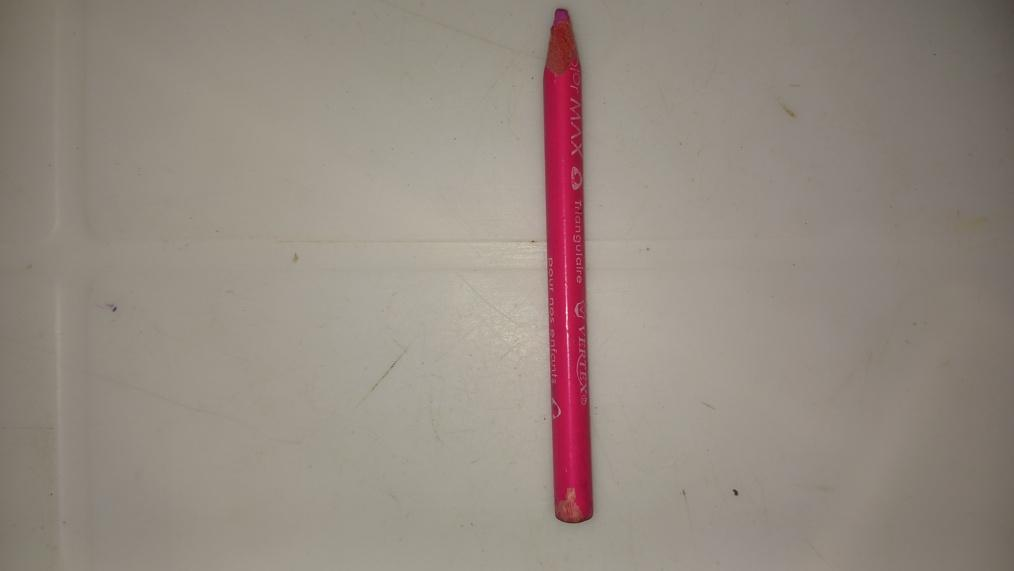Pencil: (543, 6, 593, 525)
